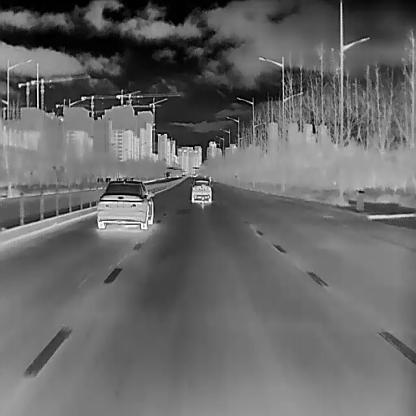car: (96, 178, 154, 228), (189, 176, 213, 203)
